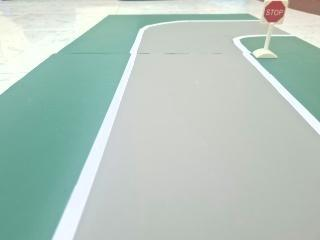stop: (258, 0, 291, 28)
